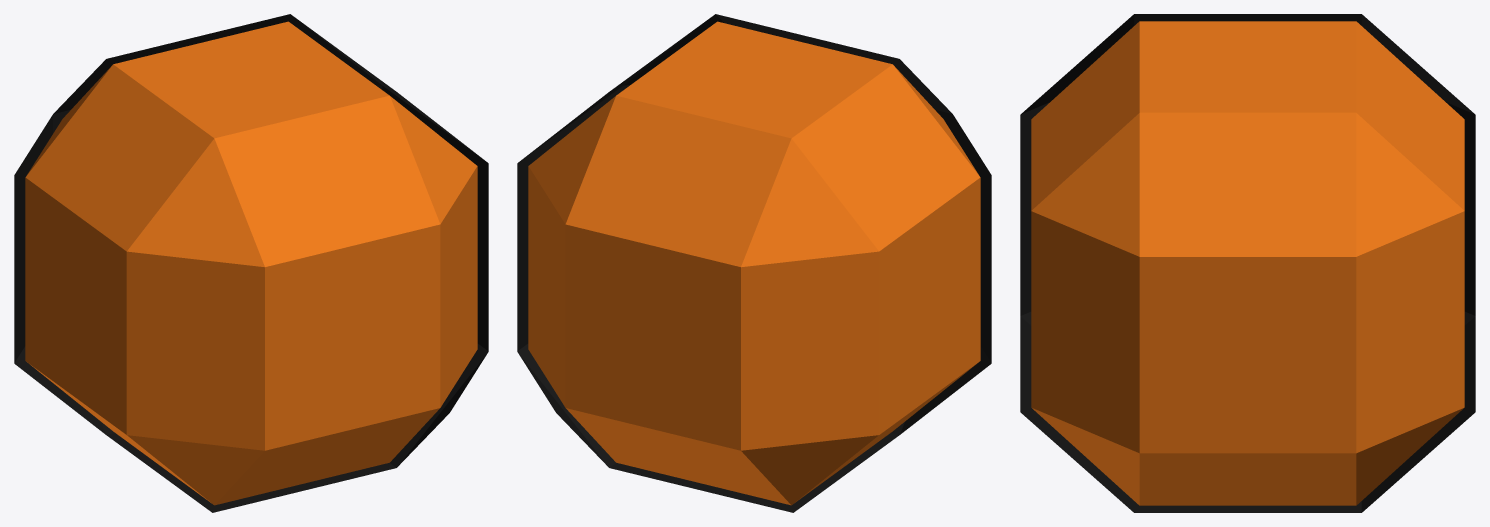
The model's file is Balon_Basketball_v1.fbx.
3 renders of one model, left to right at view 1: azimuth 30°, elevation 25°; view 2: azimuth 150°, elevation 25°; view 3: azimuth 270°, elevation 25°, orthographic. The views are drawn at different scales.
Parts seen in each view (by area): view 1: Balon, Balon_outline; view 2: Balon, Balon_outline; view 3: Balon, Balon_outline.
Part boxes in pixels (left/top/right/bottom): Balon: left=25, top=21, right=477, bottom=505; Balon_outline: left=14, top=14, right=488, bottom=512; Balon: left=528, top=21, right=980, bottom=505; Balon_outline: left=517, top=14, right=991, bottom=512; Balon: left=1031, top=21, right=1464, bottom=505; Balon_outline: left=1020, top=14, right=1475, bottom=512.
Bounding box in the file's own units: 52.5 × 51.25 × 52.5.
Materials: 2 (2 with a texture image).
